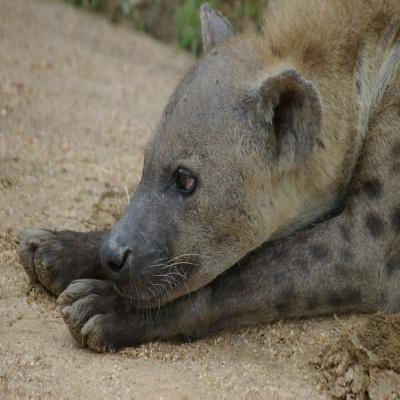hyenas: (16, 0, 400, 385)
